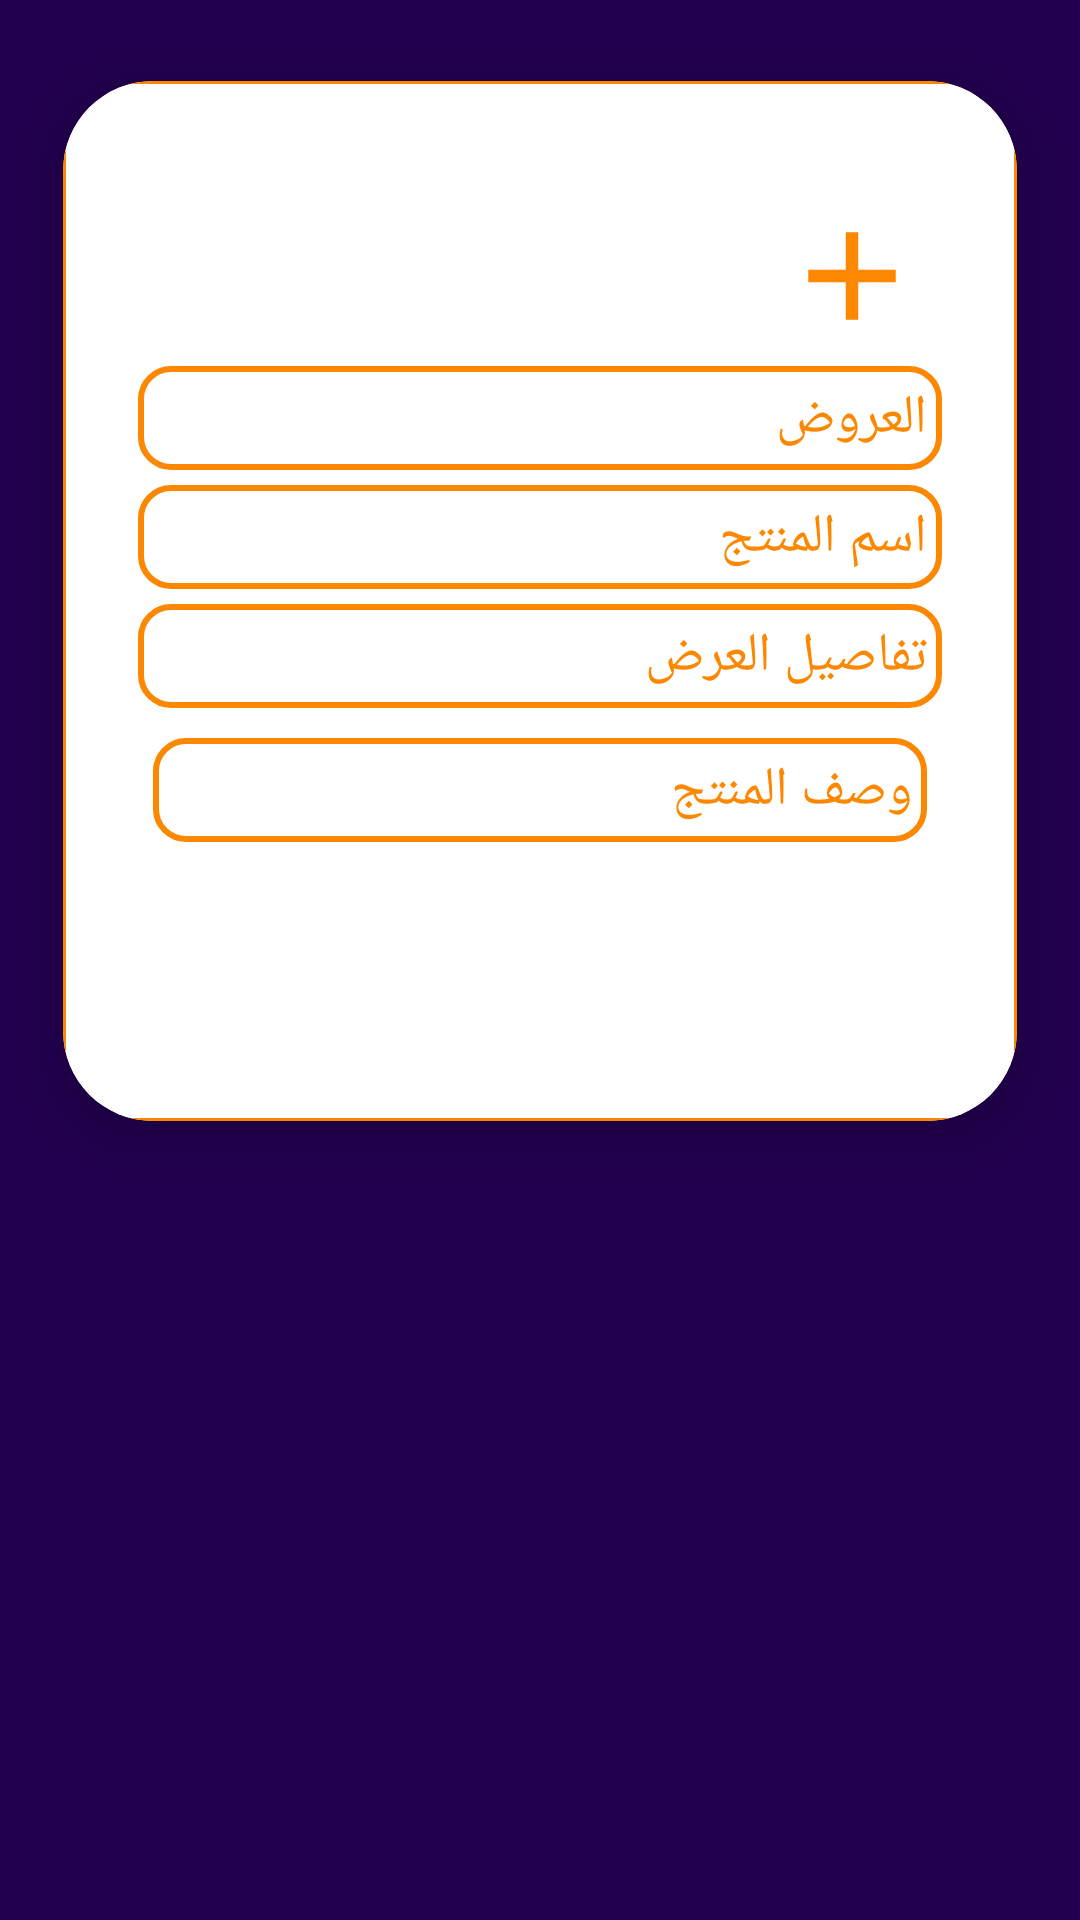

Where to tap for icons on this 1080×1920 app screen, as [x,y]:
add: [852,276]
